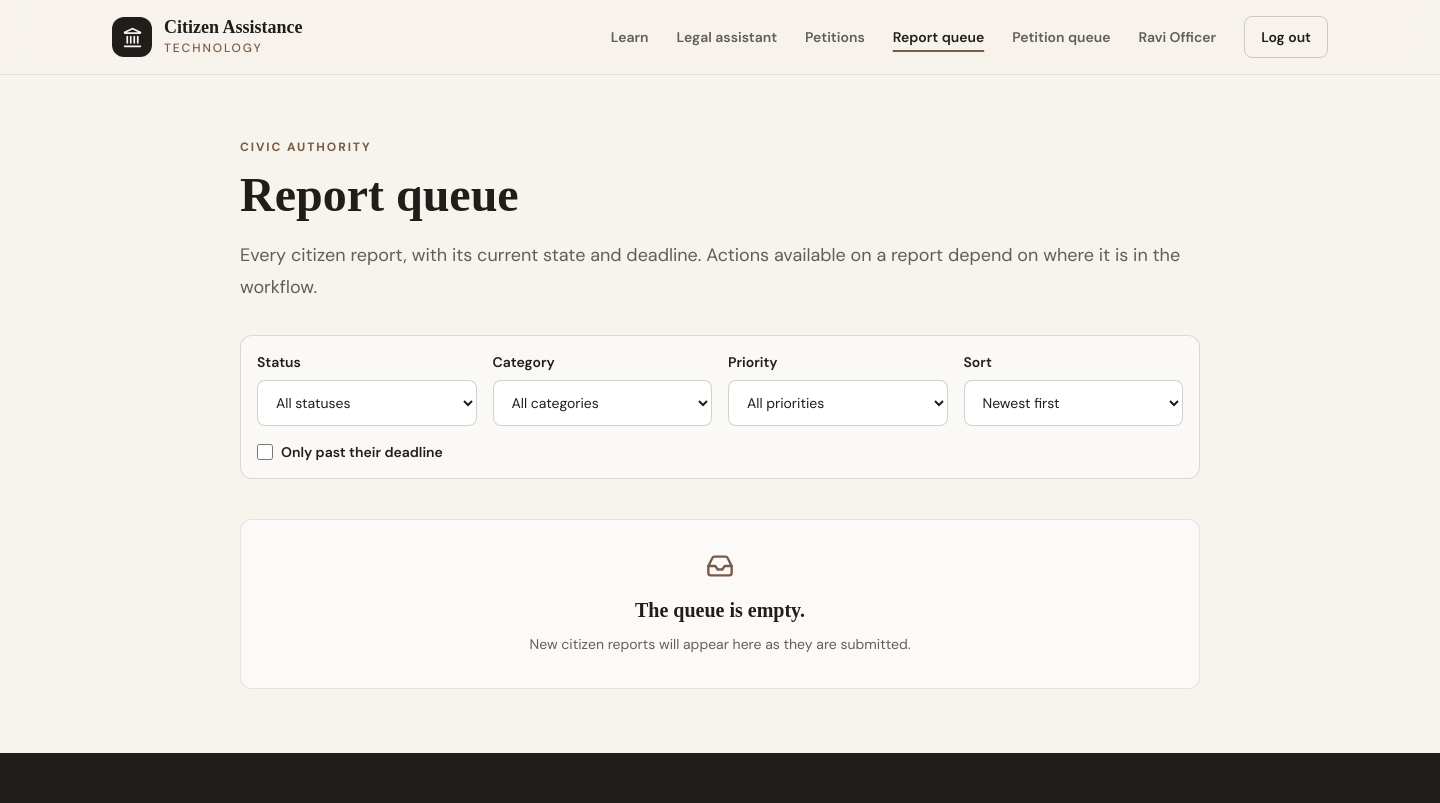
AuthorityDashboardPage › tells an empty unfiltered queue apart from an unmatched filter
Expected: the text "The queue is empty." is shown, [635,599,805,621]
Select "Garbage / waste" in the dropdown labelled "Category". click: (602, 403)
box: [492,380,712,426]
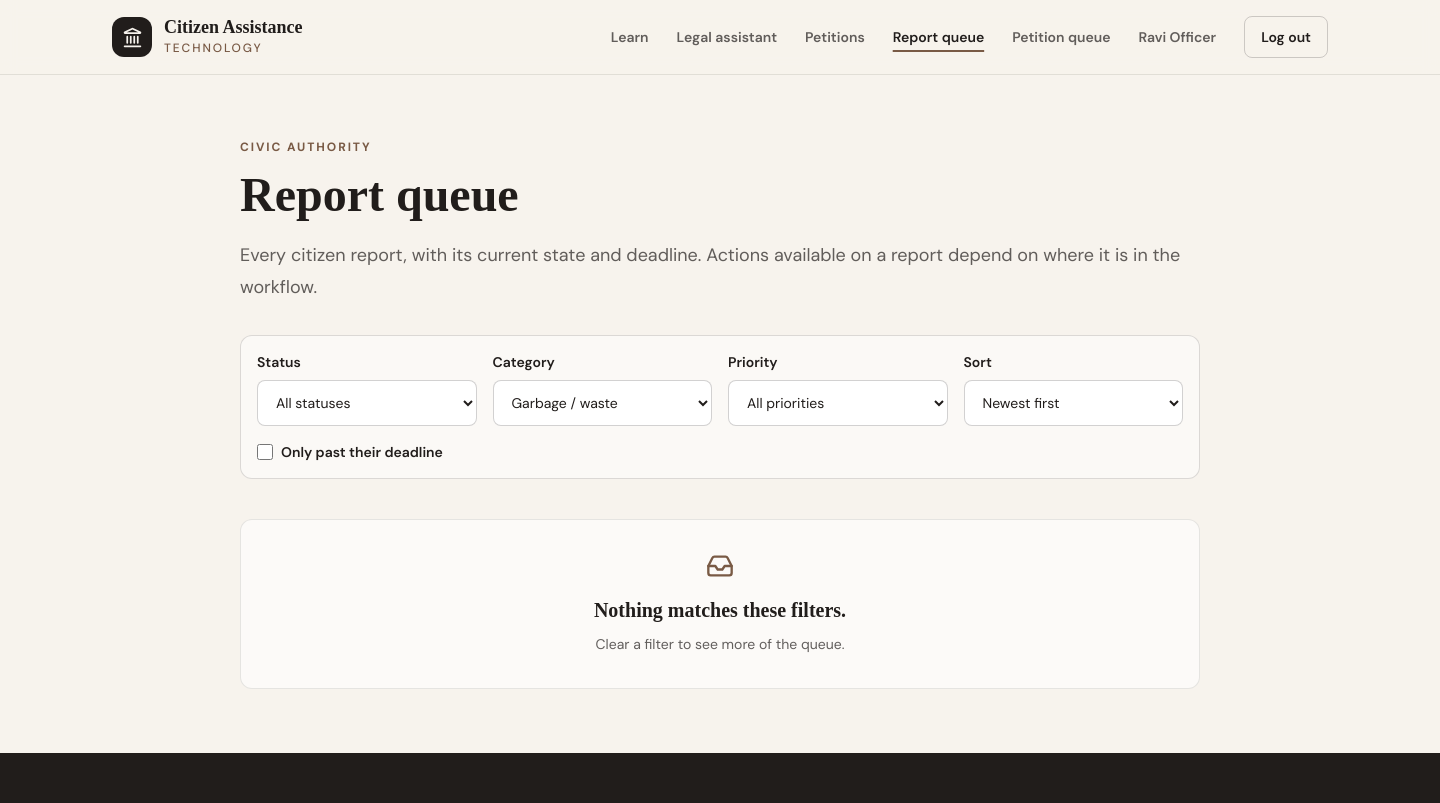
Now the text "Nothing matches these filters." is shown, box [594,599,846,621]
